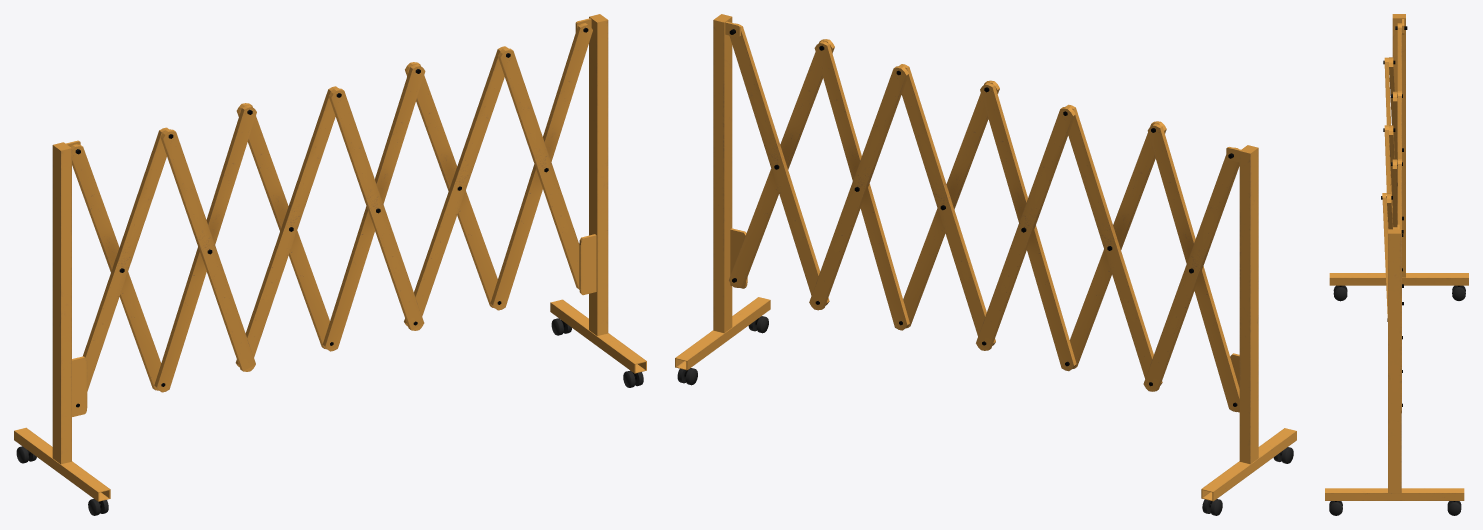
Rendered from ExpandingLength_Barricade_01.fbx.
3 renders of one model, left to right at view 1: azimuth 30°, elevation 25°; view 2: azimuth 150°, elevation 25°; view 3: azimuth 270°, elevation 25°, orthographic. The views are drawn at different scales.
Parts seen in each view (by area): view 1: Expanding Length Barricade; view 2: Expanding Length Barricade; view 3: Expanding Length Barricade.
Boxes of the visible parts, x1=… form: Expanding Length Barricade: x1=14, y1=14, x2=646, y2=515; Expanding Length Barricade: x1=675, y1=14, x2=1296, y2=515; Expanding Length Barricade: x1=1325, y1=14, x2=1468, y2=515.
Size of the model in its own units: 153 by 91.28 by 42.11.
